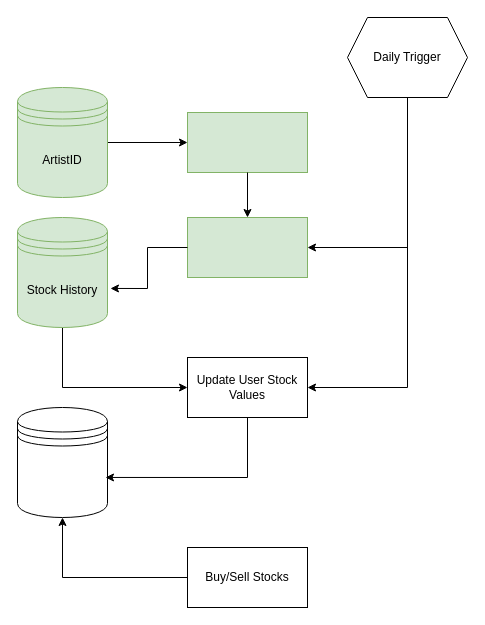
The diagram is 485 pixels wide and 625 high, and some of its shapes have lost their labels. The box of each missing label's shape, as (x1, y1, x2, y2) in pixels:
Pull current listeners: (186, 112, 308, 172)
Update Stock History: (186, 216, 308, 278)
User Assets: (16, 406, 108, 518)
